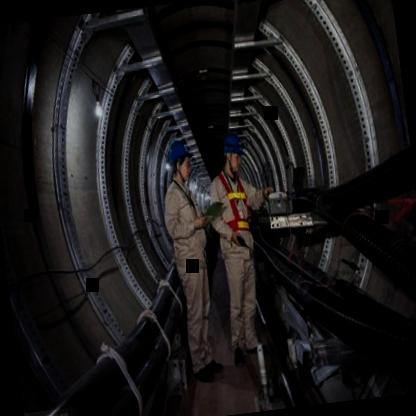helmet: (214, 125, 248, 176), (164, 129, 194, 185)
